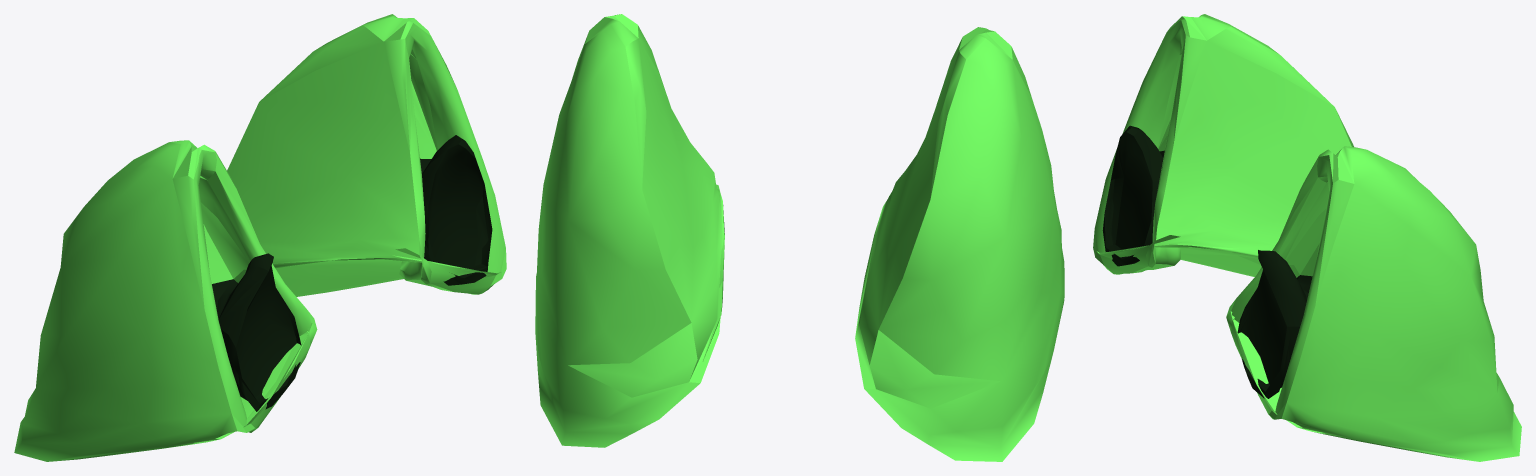
3 views of the same model, side by side, from view 1: azimuth 30°, elevation 25°; view 2: azimuth 150°, elevation 25°; view 3: azimuth 270°, elevation 25° (orthographic). The views are drawn at different scales.
Visible parts, largest first — view 1: ears_005; view 2: ears_005; view 3: ears_005.
Boxes of the visible parts, left/top/right/bottom form: ears_005: left=14, top=14, right=506, bottom=461; ears_005: left=535, top=14, right=1064, bottom=461; ears_005: left=1093, top=14, right=1521, bottom=461.
Size of the model in its own units: 83.75 by 70.42 by 59.08.
